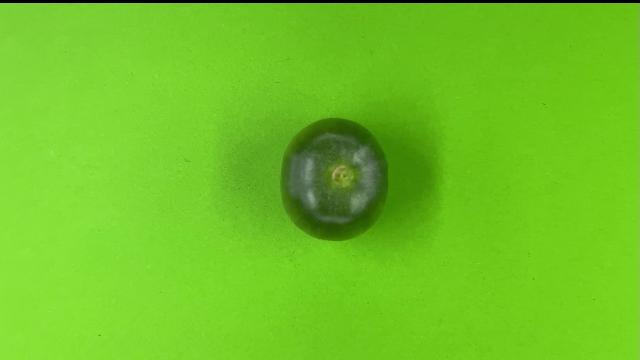Fruit Maturation: (277, 115, 392, 244)
